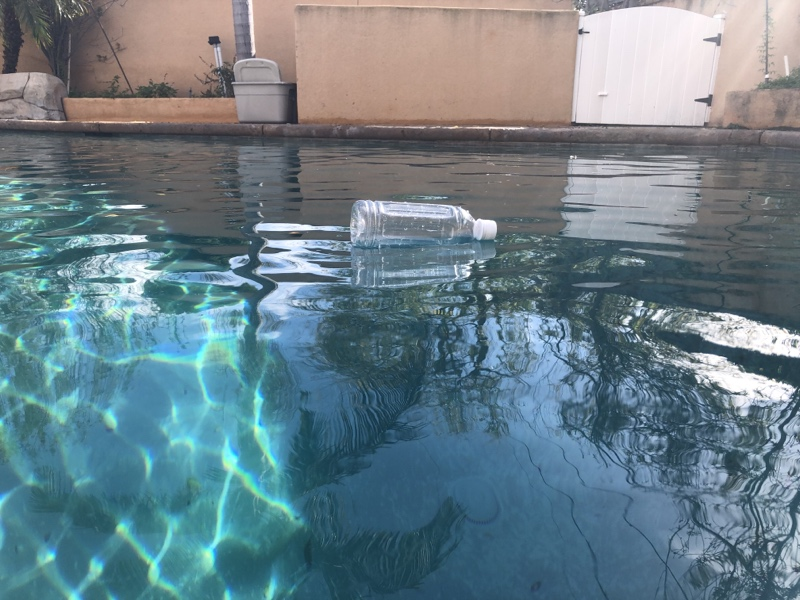Plastic Bottle: (344, 195, 503, 250)
